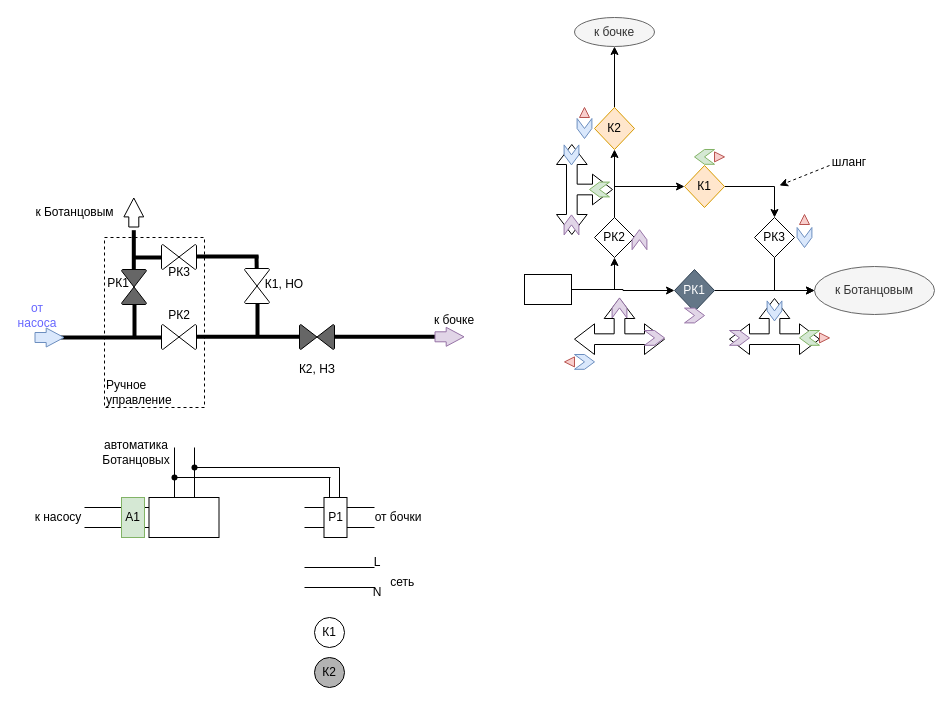
Some shapes in this 952 by 705 pixel diagram are drawn without their labels. Here are the shapes that lost their labels. From the top down, the box of each, then its label:
(524, 274, 572, 304): вход
(148, 496, 219, 538): АВР
